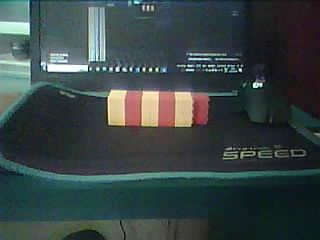lego: (107, 89, 211, 128)
